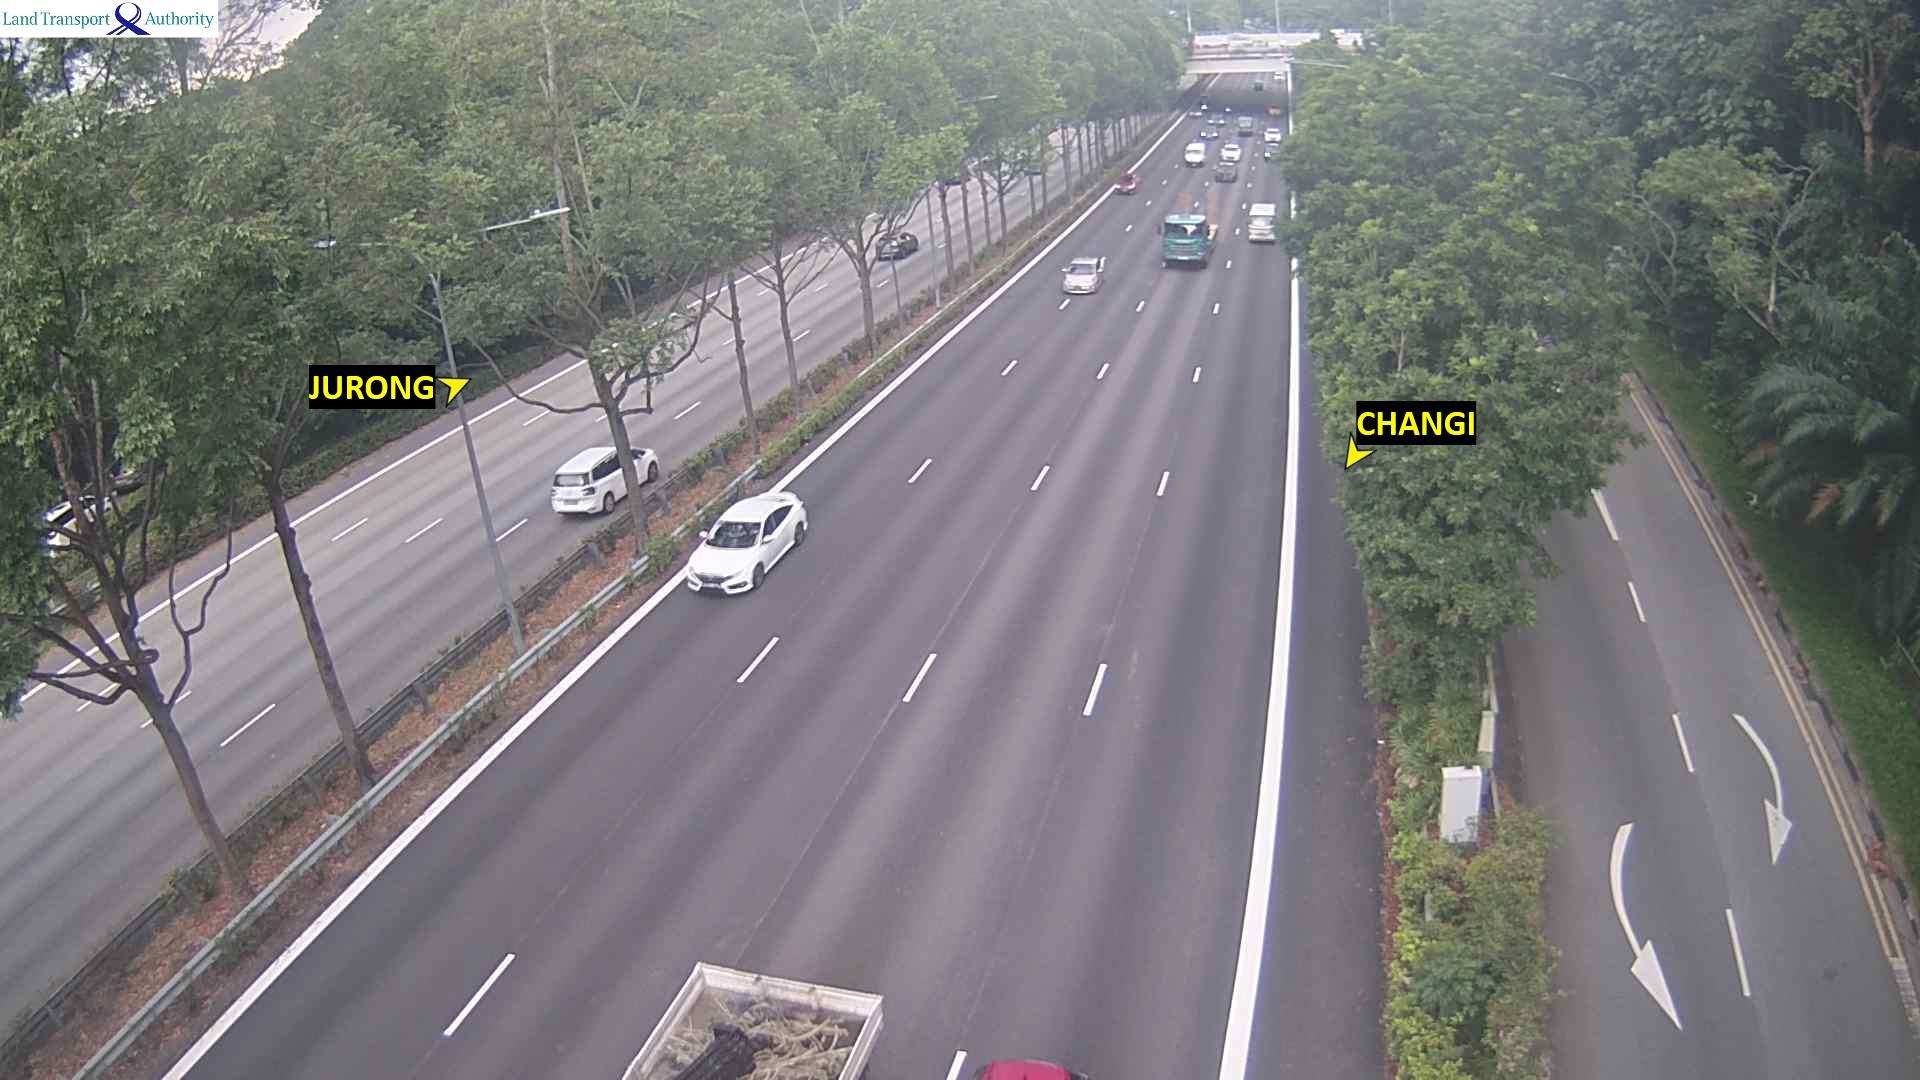cars: (684, 491, 808, 596), (549, 443, 659, 516), (971, 1058, 1087, 1079), (1059, 255, 1106, 295), (876, 231, 916, 261), (1246, 202, 1276, 243), (940, 161, 969, 185), (1022, 156, 1048, 179), (1183, 141, 1207, 166), (1114, 170, 1139, 193), (1218, 141, 1242, 162), (1213, 160, 1237, 181), (1262, 142, 1287, 162), (1236, 113, 1254, 135), (1200, 121, 1220, 138), (1263, 125, 1280, 144), (1273, 69, 1290, 84), (1197, 95, 1211, 112), (1188, 107, 1204, 119), (1253, 79, 1266, 92), (1266, 104, 1280, 116), (1222, 100, 1233, 116)
trucks: (572, 943, 910, 1080), (1156, 211, 1218, 268)
